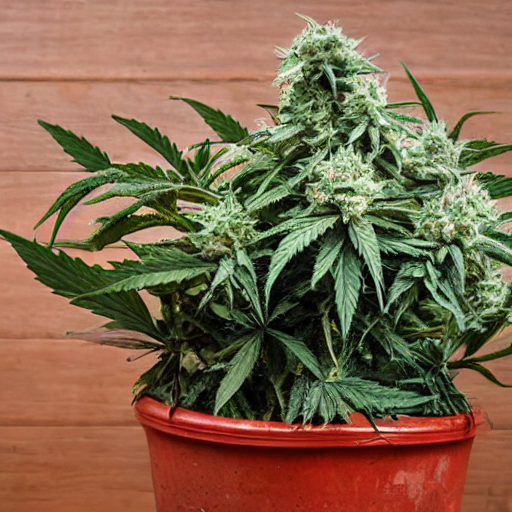Marijuana Joint: (3, 3, 512, 371)
